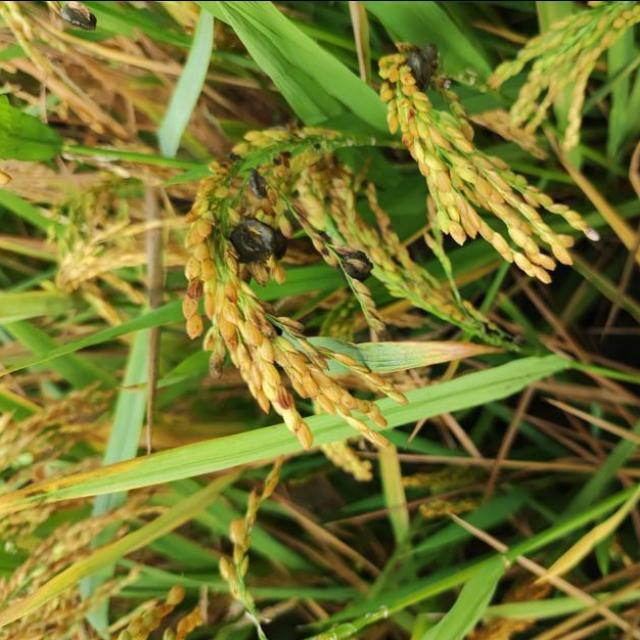Leaf_Scald: (223, 213, 279, 270), (399, 37, 442, 90), (336, 248, 374, 284), (58, 1, 97, 32)
